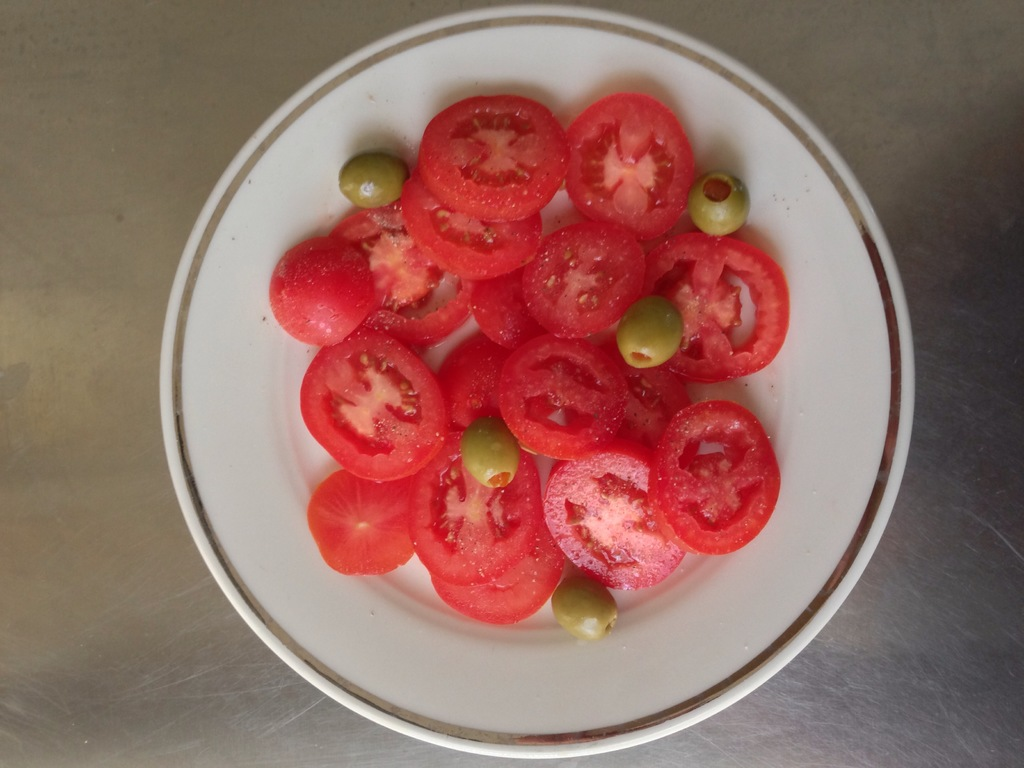Tomato: (268, 91, 790, 624)
